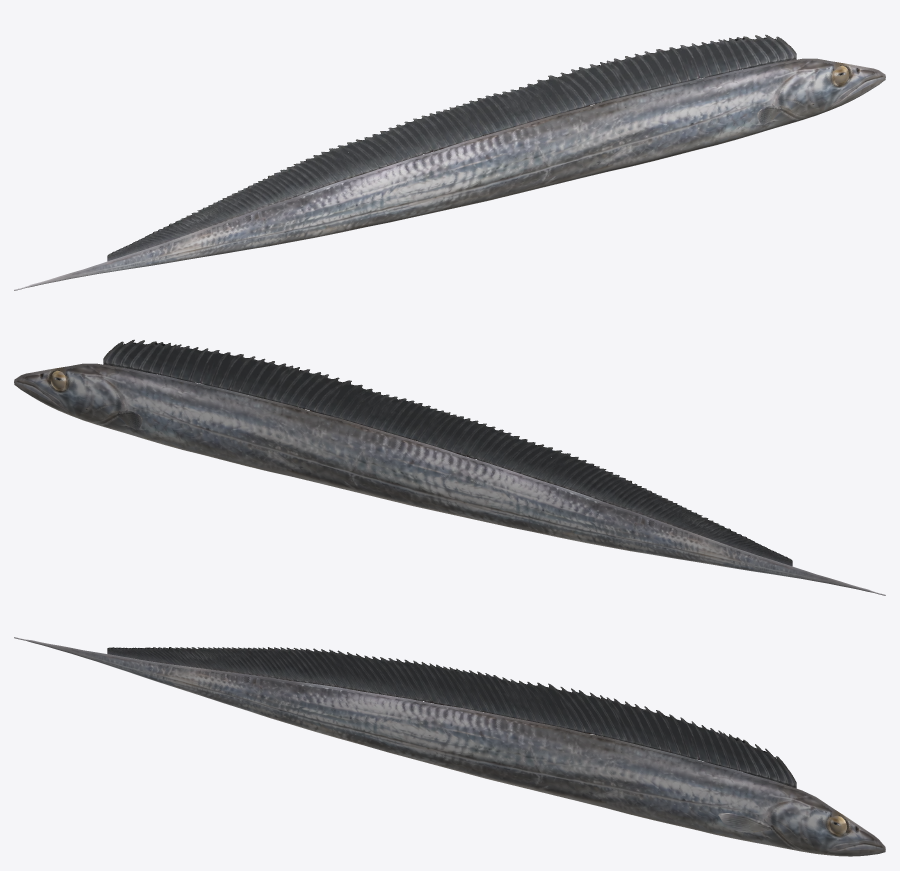
Rendered from hairtail.glb.
3 views of the same model, one above another, from view 1: azimuth 30°, elevation 25°; view 2: azimuth 150°, elevation 25°; view 3: azimuth 330°, elevation 25° (orthographic).
Size of the model in its own units: 1 by 0.1225 by 0.0799.
1 material, 1 textured.
